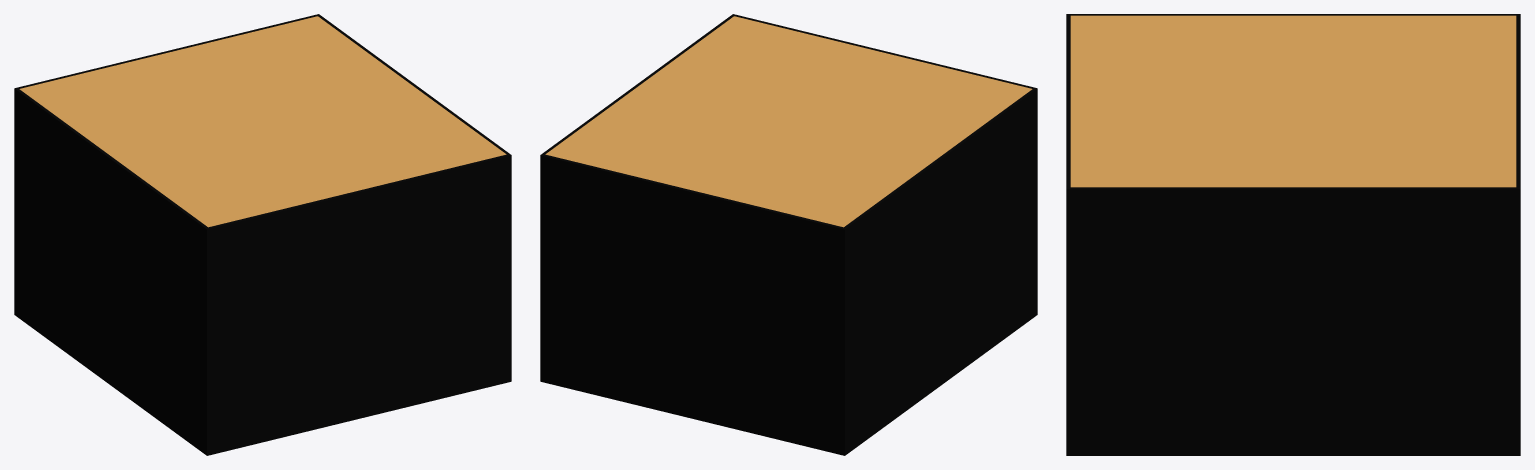
The picture shows the model from 3 angles, left to right: view 1: azimuth 30°, elevation 25°; view 2: azimuth 150°, elevation 25°; view 3: azimuth 270°, elevation 25°; orthographic projection. The views are drawn at different scales.
Visible parts, largest first — view 1: 立方体.004, 立方体.005; view 2: 立方体.004, 立方体.005; view 3: 立方体.004, 立方体.005.
Boxes of the visible parts, <box> form: 立方体.004: <box>14,14,511,455</box>; 立方体.005: <box>19,16,506,227</box>; 立方体.004: <box>540,14,1037,455</box>; 立方体.005: <box>545,16,1032,227</box>; 立方体.004: <box>1066,14,1520,455</box>; 立方体.005: <box>1070,15,1516,187</box>.
Size of the model in its own units: 0.9152 by 0.65 by 1.
